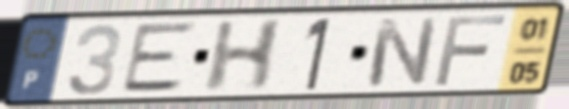1: (302, 15, 332, 93)
3: (66, 21, 124, 97)
E: (117, 19, 202, 96)
F: (431, 12, 510, 88)
H: (200, 17, 288, 95)
N: (363, 15, 441, 90)
